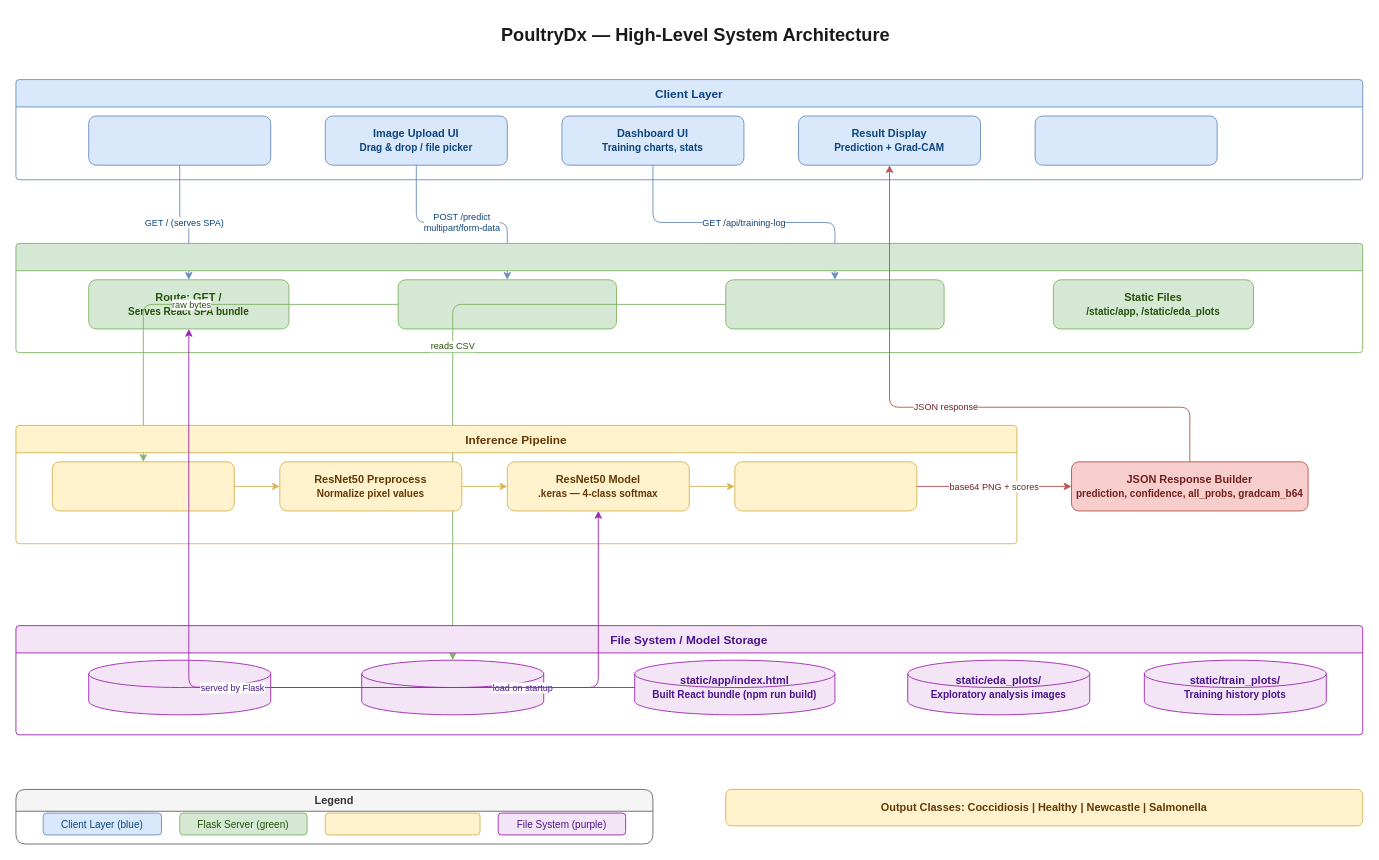
Image size: 1379x860. Some labels were removed from this diagram. The shapes that lost their labels are listed below. From the top down, each one's box as (x1, y1, x2, y2) in pixels, then its label:
(88, 115, 271, 165): Web Browser React SPA (Vite/CRA)
(1034, 115, 1217, 165): Disease Reference Info cards, tips, checklist
(397, 279, 617, 329): Route: POST /predict Accepts image, runs inference
(15, 243, 1363, 353): Flask Server — app.py (Python, port 5000)
(725, 279, 944, 329): Route: GET /api/training-log Reads training_log.csv
(51, 461, 234, 511): OpenCV Decode + resize to 224×224
(734, 461, 917, 511): Saliency Map OpenCV spectral residual
(88, 659, 271, 715): poultry_model_fixed.keras ResNet50 fine-tuned weights
(361, 659, 544, 715): model/training_log.csv epoch, acc, val_acc, loss
(324, 812, 480, 835): Inference Pipeline (yellow)
